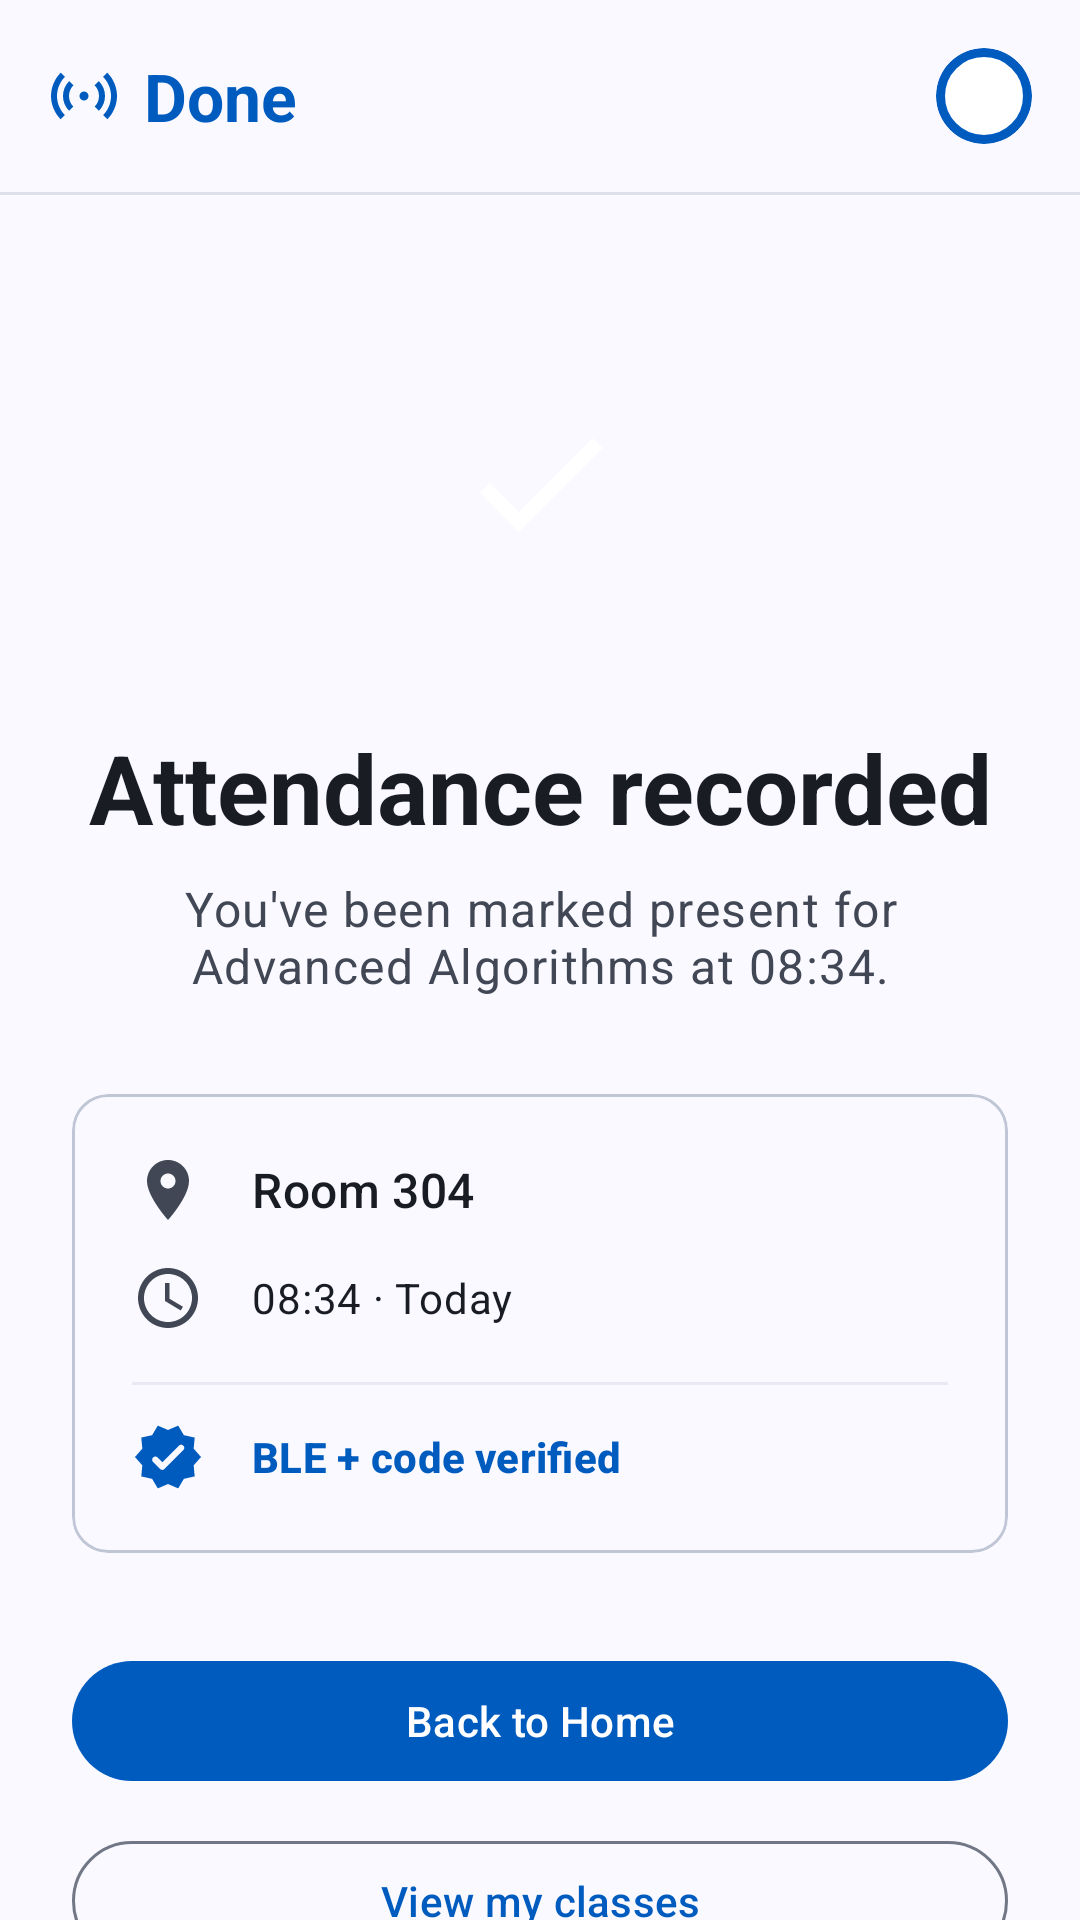

Icon click points for this 1080 × 1920 phone screenshot, format (x,y):
location on: (168,1190)
schedule: (168,1298)
